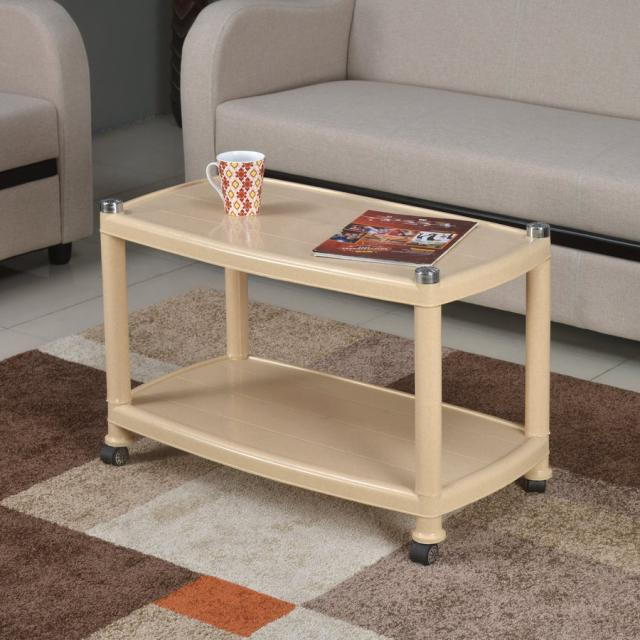obstacle: (66, 121, 628, 566)
